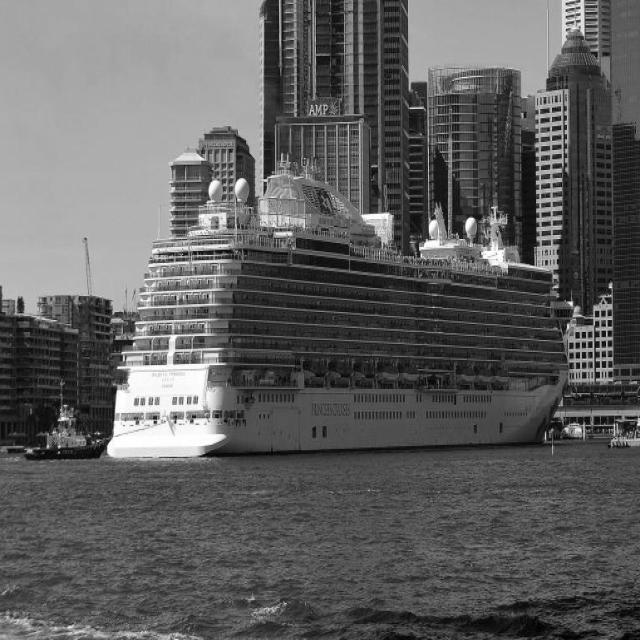cruises: (102, 150, 571, 464)
